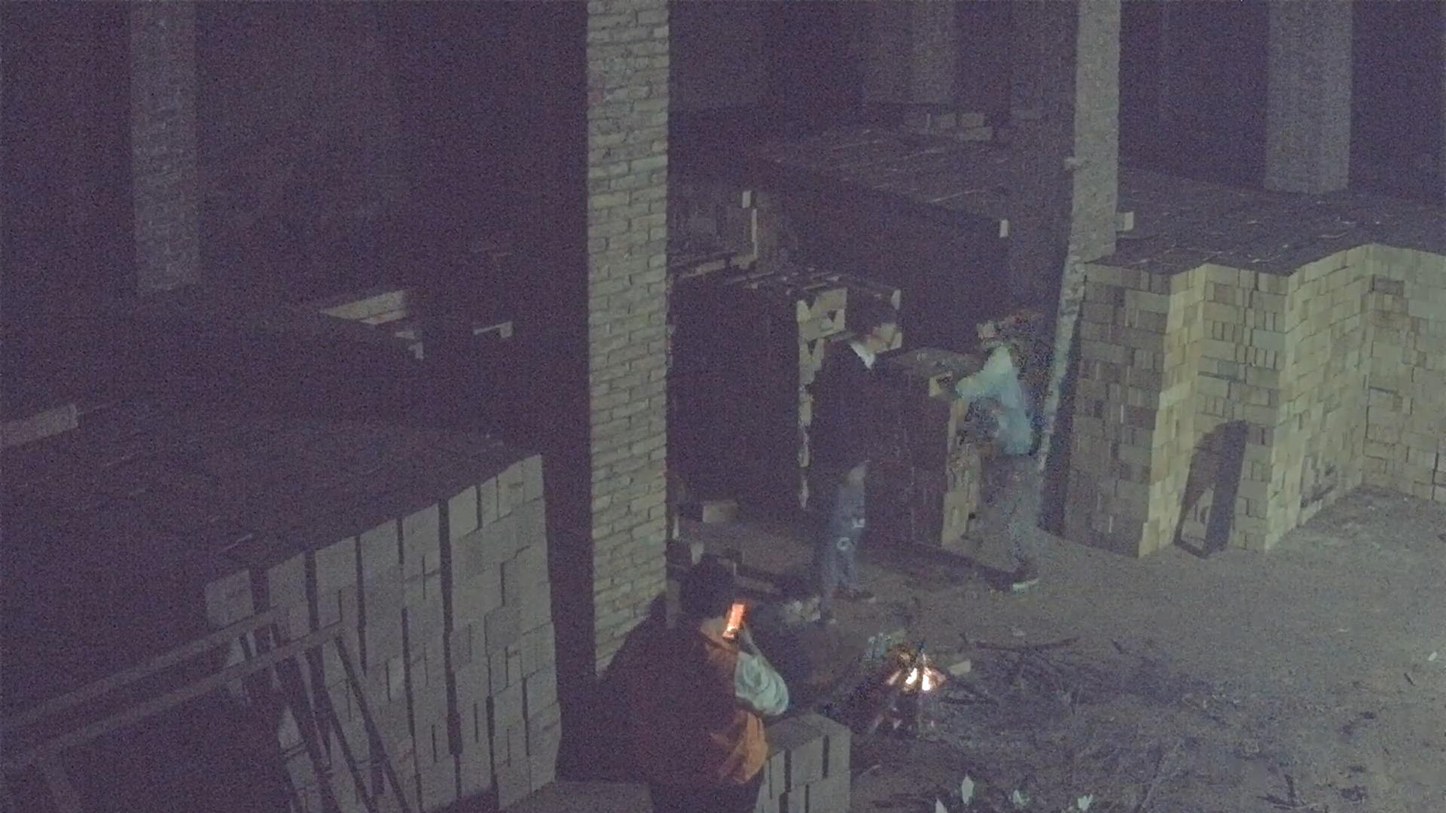fire: (883, 646, 947, 695)
